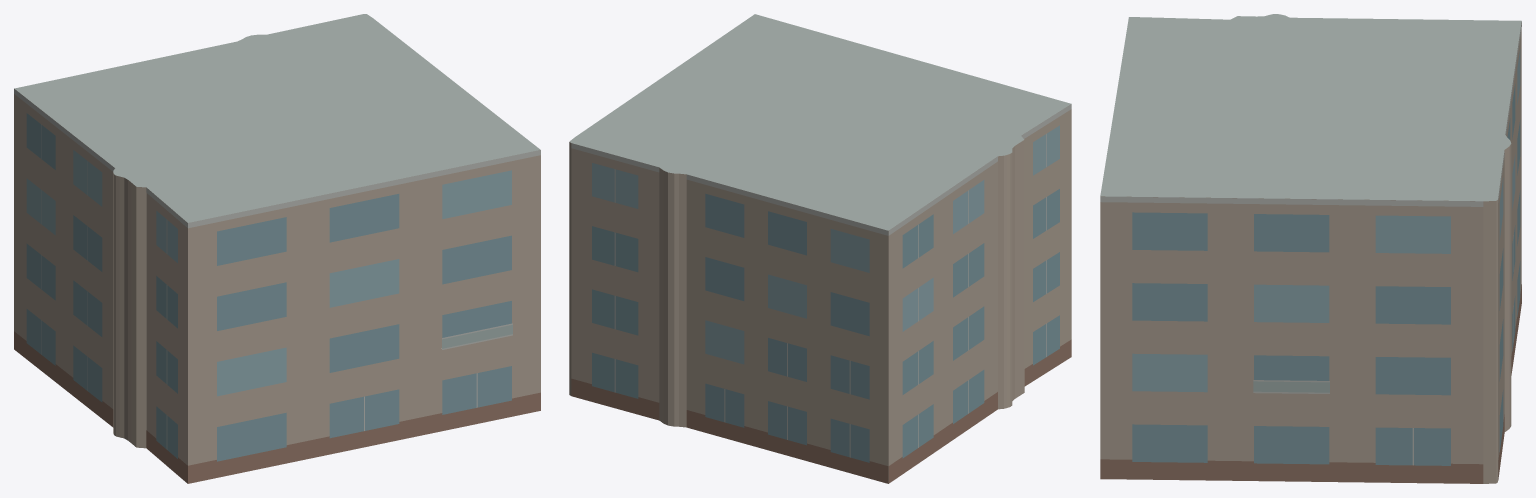
The model's file is survey-upis-32592940.glb.
3 renders of one model, left to right at view 1: azimuth 30°, elevation 25°; view 2: azimuth 150°, elevation 25°; view 3: azimuth 270°, elevation 25°, orthographic. The views are drawn at different scales.
Parts seen in each view (by area): view 1: survey-upis-32592940.tmp; view 2: survey-upis-32592940.tmp; view 3: survey-upis-32592940.tmp.
Part boxes in pixels (x1=…): survey-upis-32592940.tmp: x1=14, y1=14, x2=540, y2=483; survey-upis-32592940.tmp: x1=569, y1=14, x2=1071, y2=483; survey-upis-32592940.tmp: x1=1100, y1=14, x2=1521, y2=483.
Size of the model in its own units: 17.05 by 12 by 16.23.
